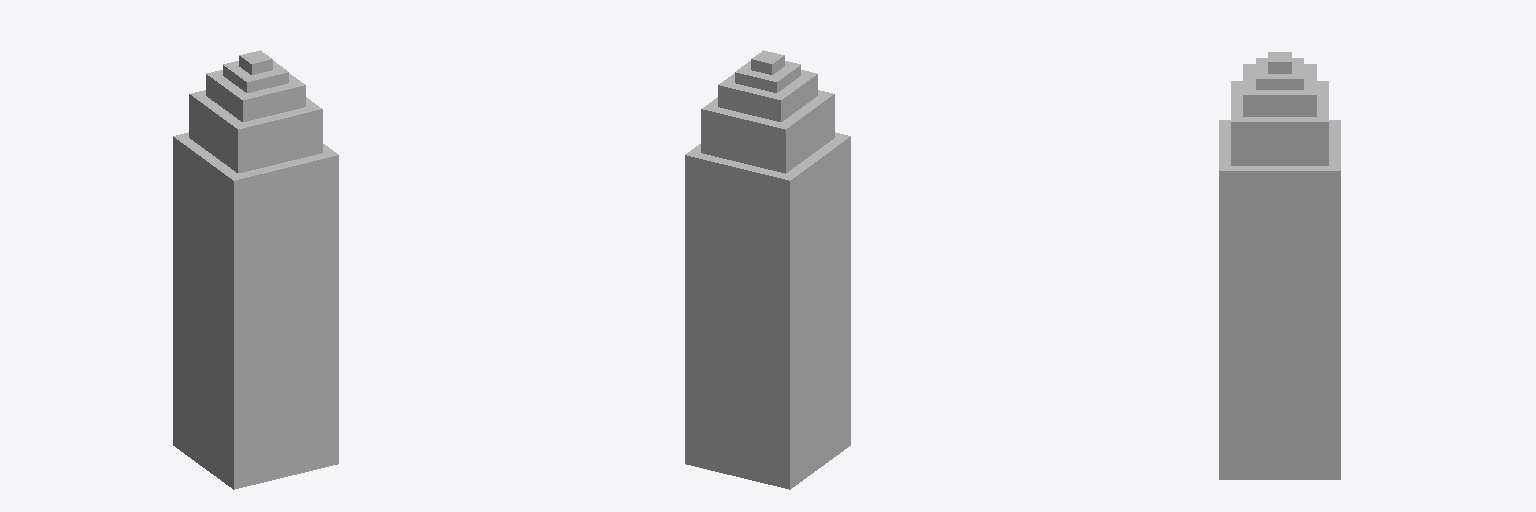
File: candle.obj
3 views of the same model, side by side, from view 1: azimuth 30°, elevation 25°; view 2: azimuth 150°, elevation 25°; view 3: azimuth 270°, elevation 25° (orthographic).
Visible parts, largest first — view 1: object 1; view 2: object 1; view 3: object 1.
Part boxes in pixels (x1,y1,x2,y2): object 1: (173, 50, 338, 489); object 1: (685, 50, 850, 489); object 1: (1219, 52, 1340, 479).
Bounding box in the file's own units: 1 × 3.6 × 1.